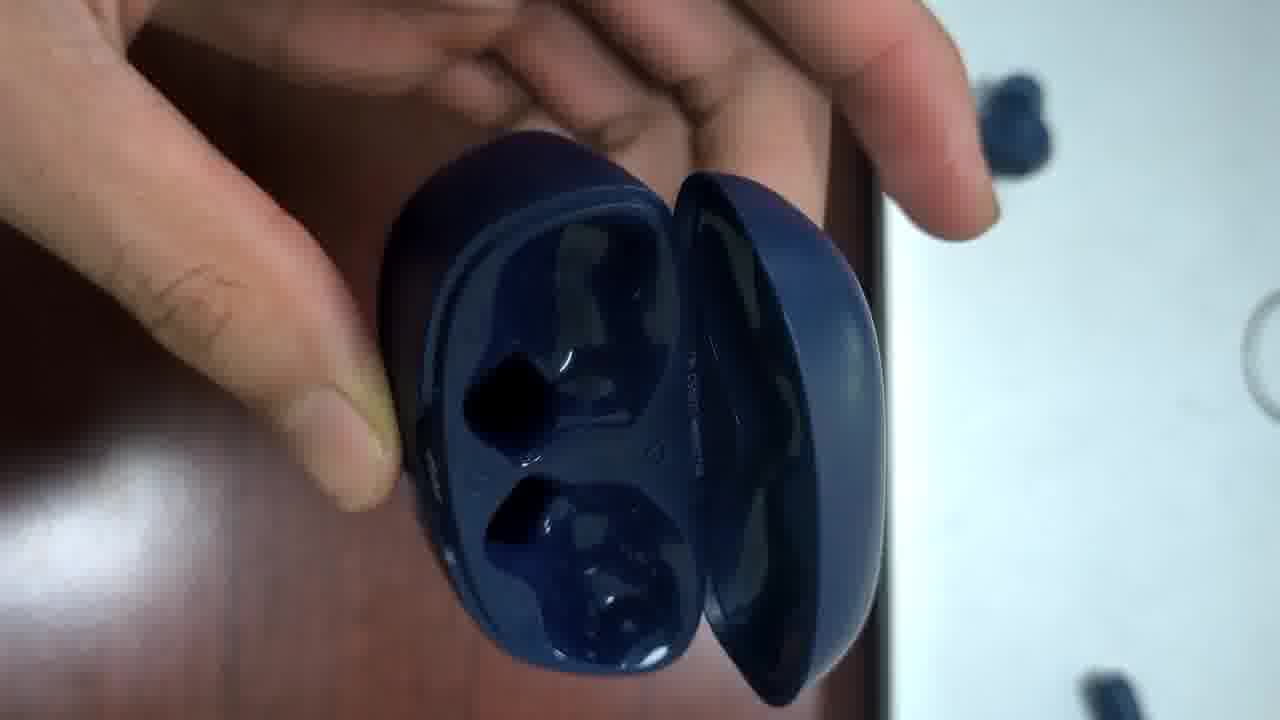Case: (377, 131, 884, 705)
Empty_Slot: (452, 222, 673, 454), (477, 447, 698, 679)
